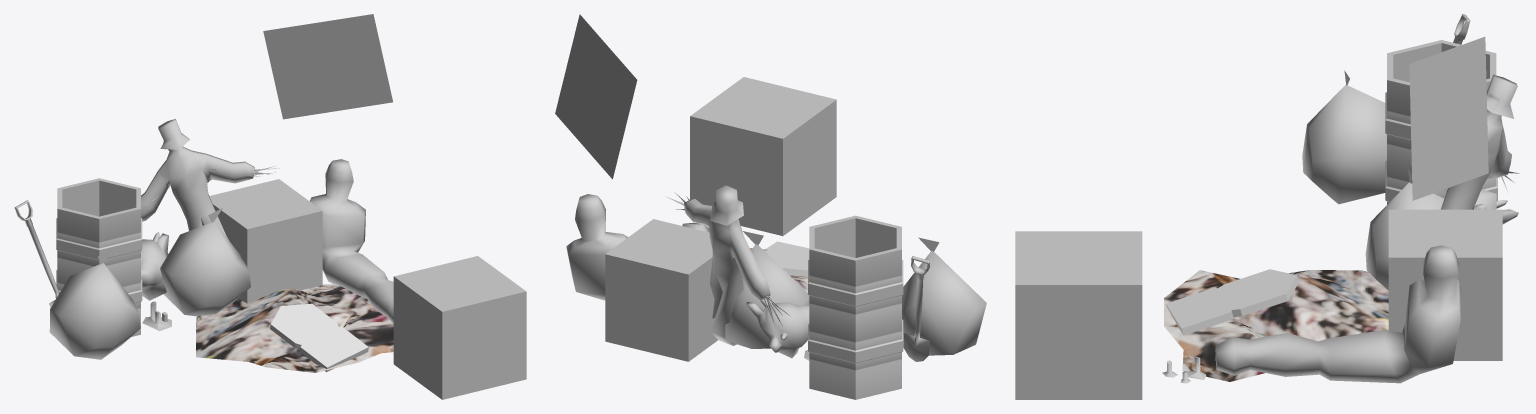
File: Asset Main Building_V2.fbx_Ruang_Penyimpanan.fbx
The picture shows the model from 3 angles, left to right: view 1: azimuth 30°, elevation 25°; view 2: azimuth 150°, elevation 25°; view 3: azimuth 270°, elevation 25°; orthographic projection. The views are drawn at different scales.
Visible parts, largest first — view 1: CardboardBox_2.003, Spiderweb, sampah, CardboardBox_2.002, Cylinder007, Garbage_bags.004, Body.001, Garbage_bags.003, Scarecrow_01, Nisan, Body_part_04, Shovel (+1 smaller); view 2: CardboardBox_2.003, Cylinder007, CardboardBox_2.002, Spiderweb, Scarecrow_01, Garbage_bags.004, Body.001, Garbage_bags.003, Body_part_04, Shovel, Nisan; view 3: CardboardBox_2.003, Body.001, CardboardBox_2.002, sampah, Spiderweb, Garbage_bags.004, Cylinder007, Nisan, Scarecrow_01, Garbage_bags.003, Body_part_04.
Boxes of the visible parts, bbox=[...] form: CardboardBox_2.003: bbox=[393, 256, 526, 399]; Spiderweb: bbox=[263, 14, 392, 119]; sampah: bbox=[196, 284, 393, 372]; CardboardBox_2.002: bbox=[209, 179, 322, 303]; Cylinder007: bbox=[56, 178, 142, 336]; Garbage_bags.004: bbox=[49, 249, 140, 359]; Body.001: bbox=[310, 159, 393, 323]; Garbage_bags.003: bbox=[160, 208, 250, 316]; Scarecrow_01: bbox=[141, 119, 279, 239]; Nisan: bbox=[270, 303, 368, 372]; Body_part_04: bbox=[141, 232, 168, 300]; Shovel: bbox=[14, 200, 59, 307]; CardboardBox_2.003: bbox=[690, 77, 836, 235]; Cylinder007: bbox=[808, 215, 903, 399]; CardboardBox_2.002: bbox=[605, 219, 717, 361]; Spiderweb: bbox=[555, 14, 637, 179]; Scarecrow_01: bbox=[666, 185, 789, 345]; Garbage_bags.004: bbox=[902, 237, 986, 355]; Body.001: bbox=[566, 194, 709, 300]; Garbage_bags.003: bbox=[725, 231, 809, 348]; Body_part_04: bbox=[746, 300, 809, 358]; Shovel: bbox=[903, 256, 929, 361]; Nisan: bbox=[764, 241, 809, 276]; CardboardBox_2.003: bbox=[1015, 231, 1142, 399]; Body.001: bbox=[1215, 245, 1460, 383]; CardboardBox_2.002: bbox=[1388, 209, 1502, 360]; sampah: bbox=[1164, 270, 1388, 381]; Spiderweb: bbox=[1409, 36, 1488, 200]; Garbage_bags.004: bbox=[1302, 70, 1386, 204]; Cylinder007: bbox=[1385, 40, 1497, 204]; Nisan: bbox=[1166, 269, 1298, 335]; Scarecrow_01: bbox=[1439, 74, 1519, 209]; Garbage_bags.003: bbox=[1365, 168, 1443, 290]; Body_part_04: bbox=[1433, 188, 1518, 224].
Bounding box in the file's own units: 3284 × 2278 × 3044.
